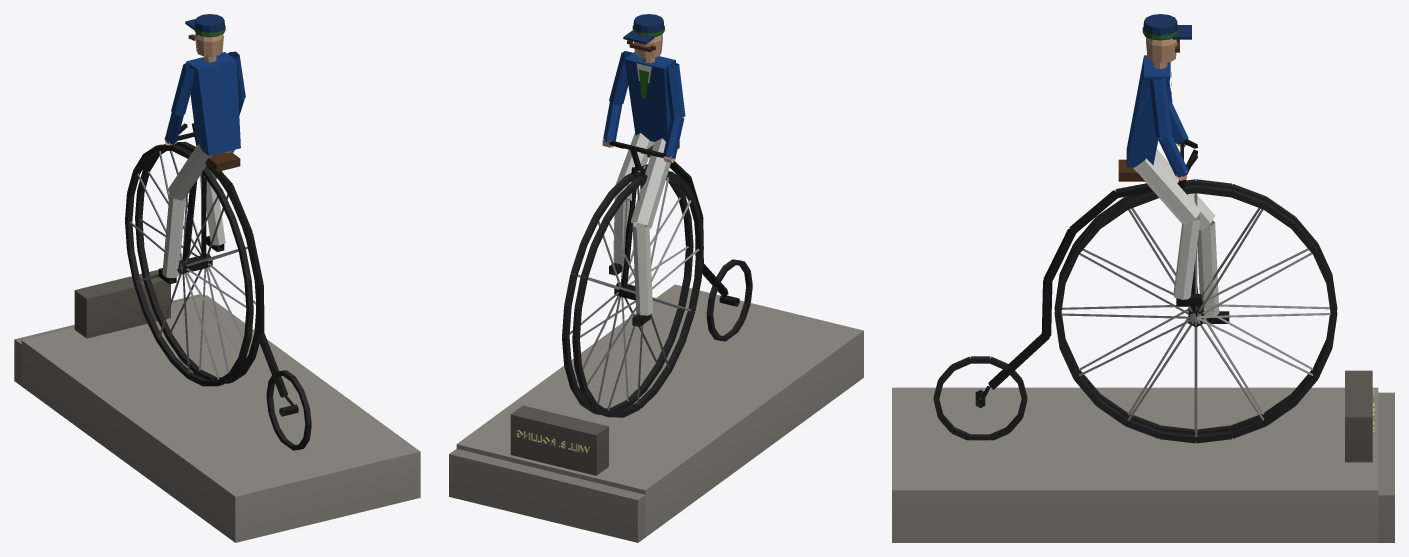
File: willrolling.glb
3 views of the same model, side by side, from view 1: azimuth 30°, elevation 25°; view 2: azimuth 150°, elevation 25°; view 3: azimuth 270°, elevation 25° (orthographic). The views are drawn at different scales.
Visible parts, largest first — view 1: willrolling_lod0; view 2: willrolling_lod0; view 3: willrolling_lod0.
Boxes of the visible parts, x1=… form: willrolling_lod0: x1=14, y1=14, x2=420, y2=542; willrolling_lod0: x1=449, y1=14, x2=863, y2=542; willrolling_lod0: x1=892, y1=14, x2=1394, y2=542.
Size of what is drawn, in the model's own units: 4.4 by 9.4 by 9.1.
